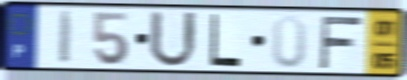0: (269, 13, 310, 71)
5: (91, 9, 132, 68)
F: (317, 14, 365, 70)
I: (57, 9, 77, 67)
L: (208, 12, 244, 69)
U: (146, 9, 199, 71)
